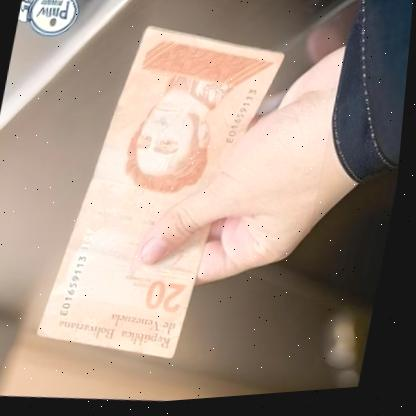twenty-front-vef: (37, 14, 290, 376)
